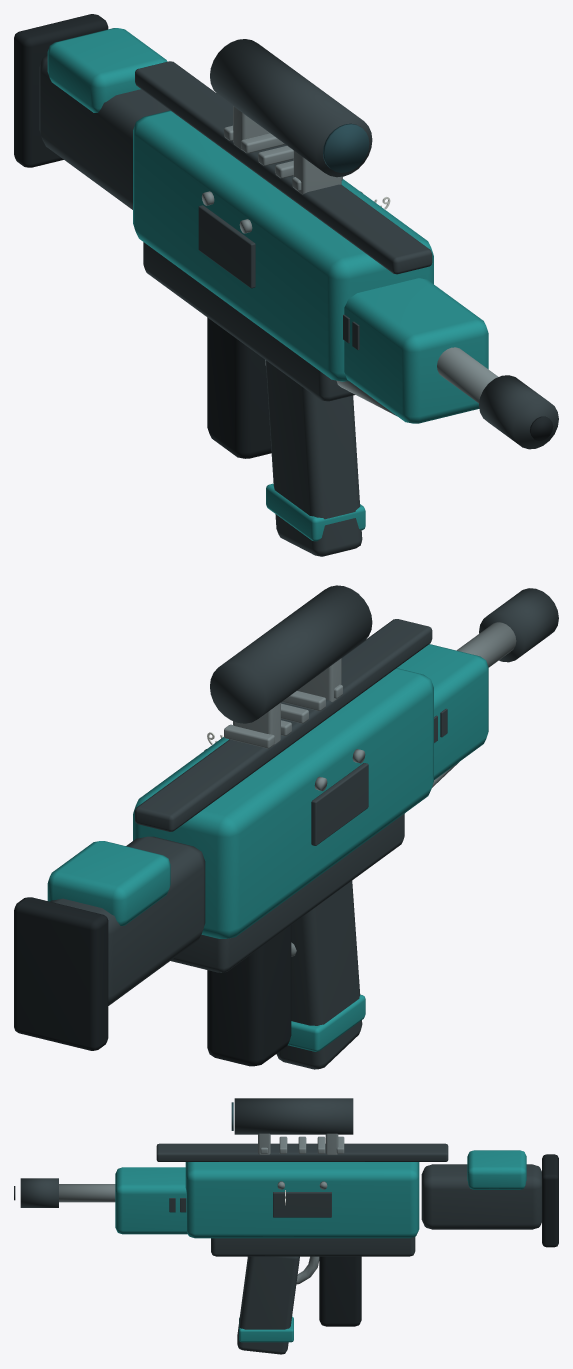
File: longwatch_dmr_abyss.glb
3 renders of one model, top to bottom at view 1: azimuth 30°, elevation 25°; view 2: azimuth 150°, elevation 25°; view 3: azimuth 270°, elevation 25°, orthographic. The views are drawn at different scales.
Visible parts, largest first — view 1: longwatch_dmr_abyss; view 2: longwatch_dmr_abyss; view 3: longwatch_dmr_abyss.
Boxes of the visible parts, left/top/right/bottom form: longwatch_dmr_abyss: left=14, top=14, right=558, bottom=556; longwatch_dmr_abyss: left=14, top=585, right=558, bottom=1069; longwatch_dmr_abyss: left=14, top=1098, right=558, bottom=1354.
Size of the model in its own units: 0.2294 by 0.6525 by 1.29.
